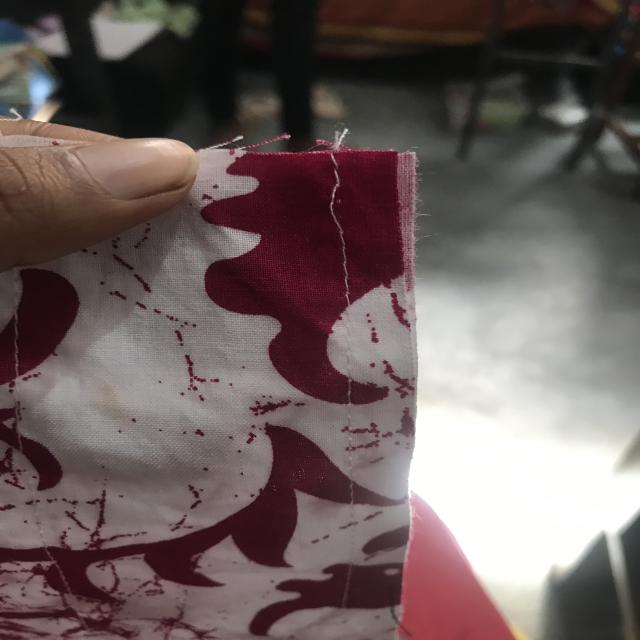skip: (316, 173, 360, 243)
